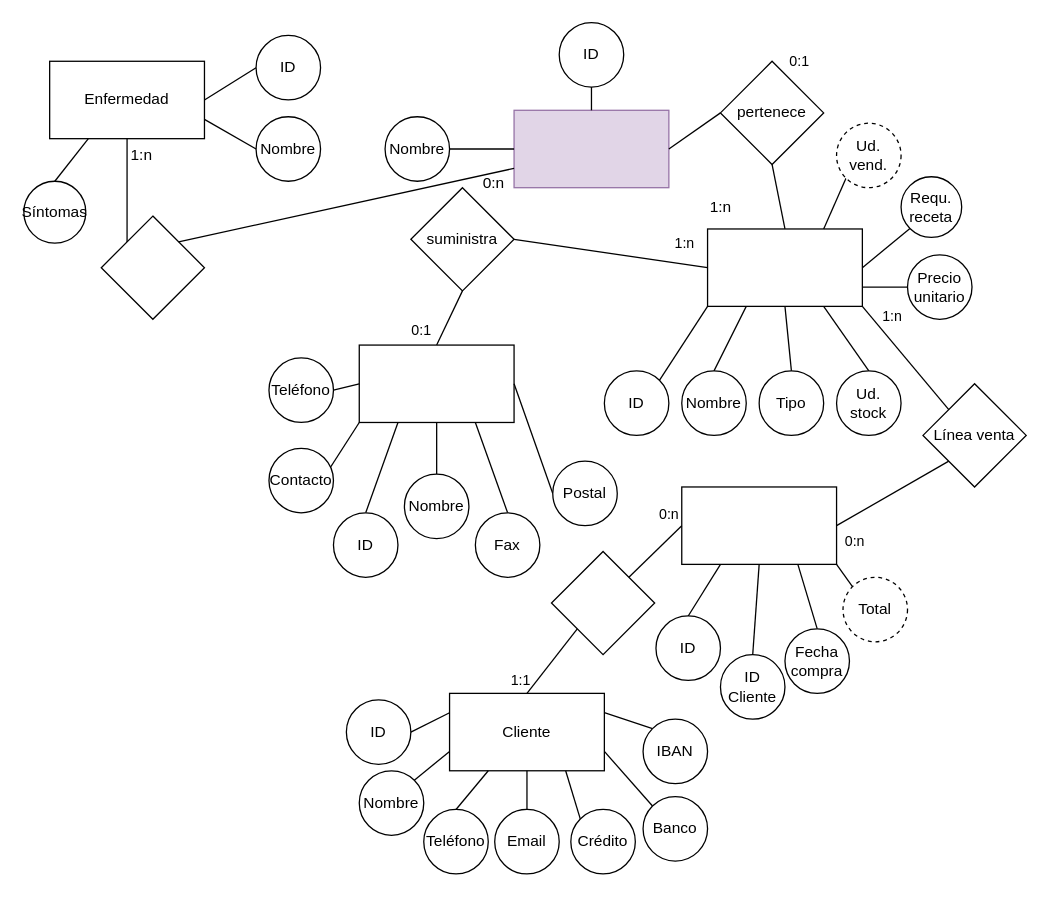
The diagram is 1049 pixels wide and 897 high, and some of its shapes have lost their labels. The shapes that lost their labels are listed below. From the top down, each one's centre as x and y in pixels, then its label:
the point at 591,148: Familia
the point at 152,267: cura
the point at 784,267: Medicamentos
the point at 436,383: Laboratorio
the point at 758,525: Venta
the point at 602,602: realiza
